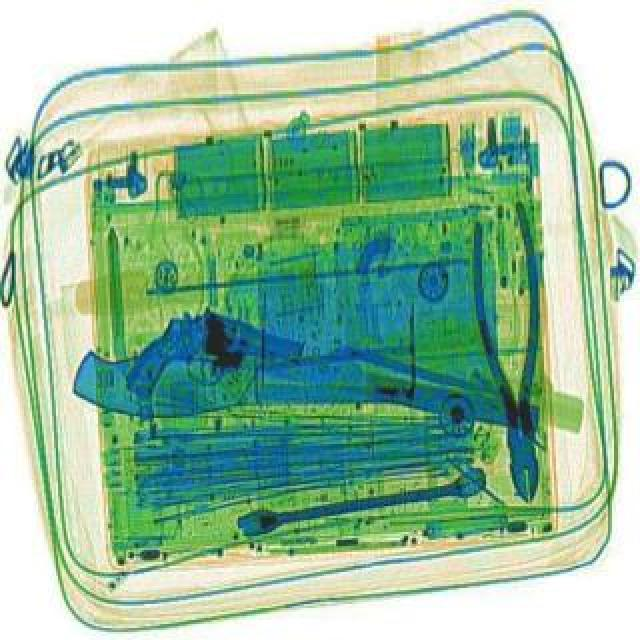gun: (122, 292, 306, 434)
knife: (72, 344, 384, 430)
wrench: (462, 198, 558, 502)
